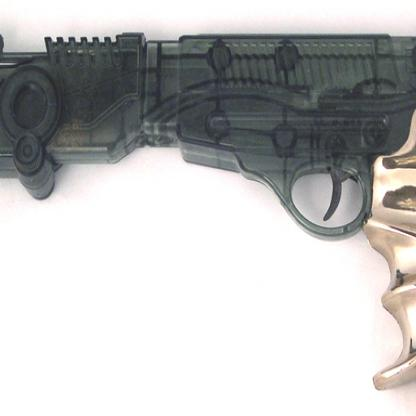gun: (0, 16, 415, 415)
